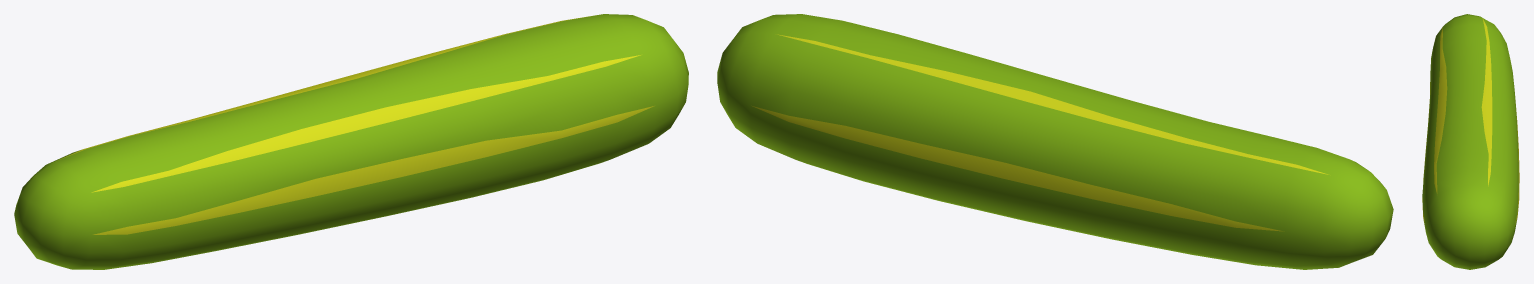
Rendered from Cucumber.glb.
The picture shows the model from 3 angles, left to right: view 1: azimuth 30°, elevation 25°; view 2: azimuth 150°, elevation 25°; view 3: azimuth 270°, elevation 25°; orthographic projection. The views are drawn at different scales.
Parts seen in each view (by area): view 1: FoodIngredient_Cucumber; view 2: FoodIngredient_Cucumber; view 3: FoodIngredient_Cucumber.
Part boxes in pixels (x1,y1,x2,y2): FoodIngredient_Cucumber: (14, 14, 688, 269); FoodIngredient_Cucumber: (717, 14, 1393, 269); FoodIngredient_Cucumber: (1422, 14, 1519, 269).
Bounding box in the file's own units: 1.64 × 0.3243 × 0.3214.
1 material, 1 textured.
